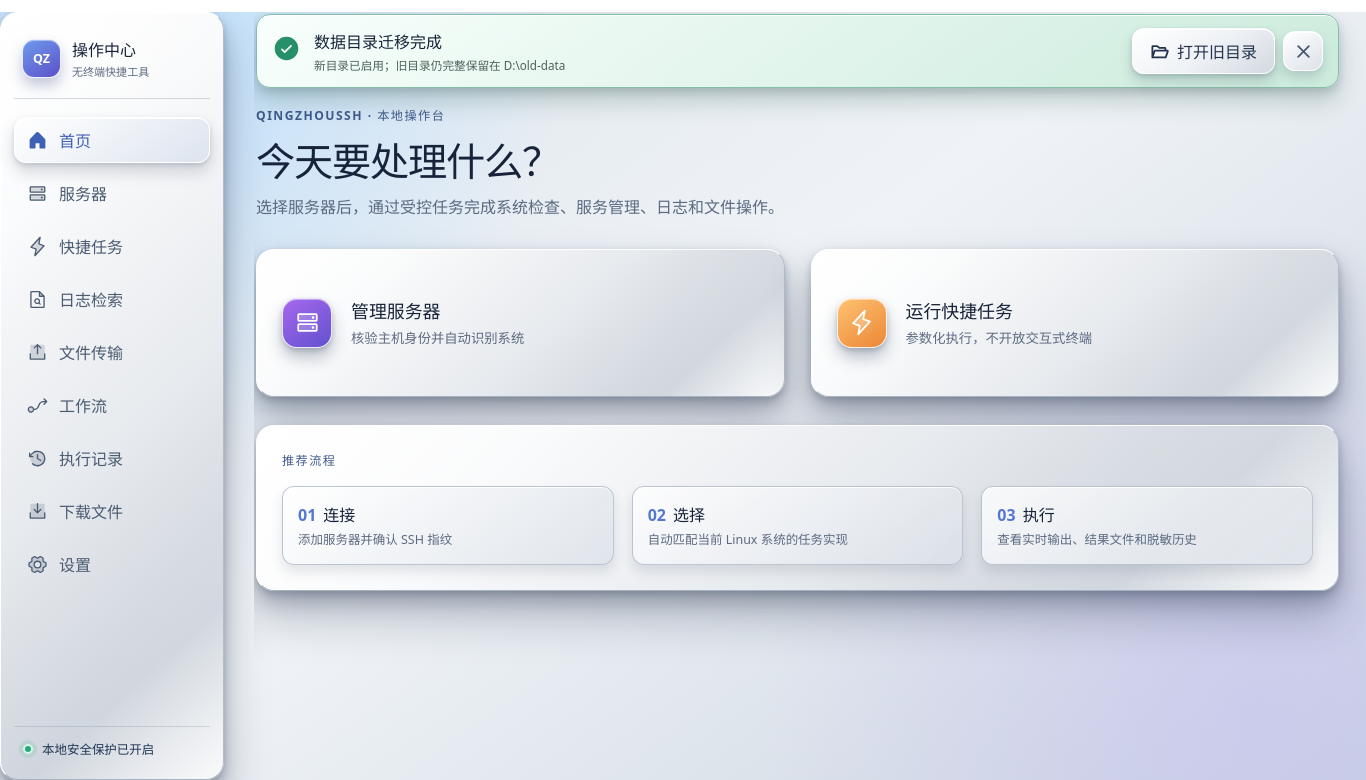
AppShell › explains a completed migration, keeps the old directory available and acknowledges it
Expected: the text "数据目录迁移完成" is shown, [314, 31, 442, 53]
Expected: the text "新目录已启用；旧目录仍完整保留在 D:\\old-data" is shown, [314, 58, 565, 73]
Click the button "打开旧目录": {"x": 1204, "y": 51} [1132, 28, 1275, 74]
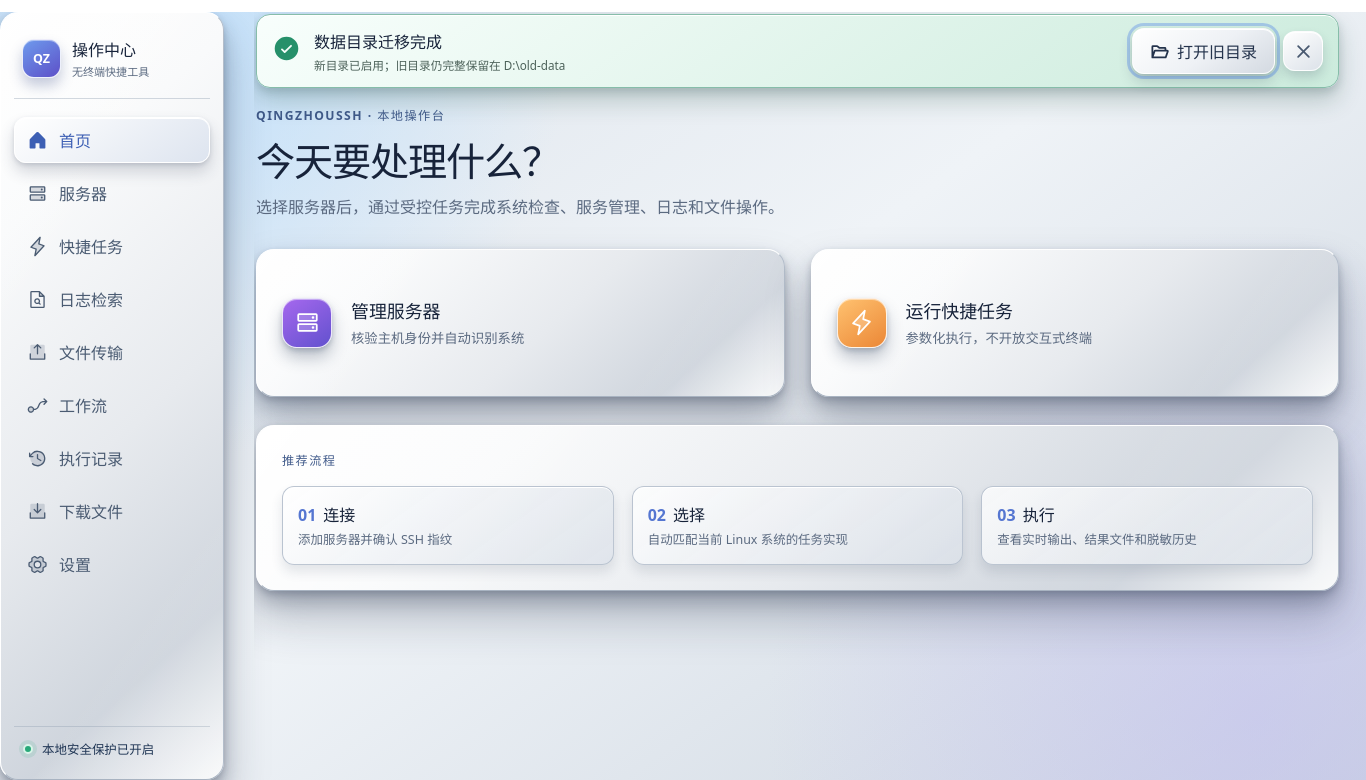
Click the button named "关闭迁移结果": {"x": 1303, "y": 51} [1283, 31, 1323, 71]
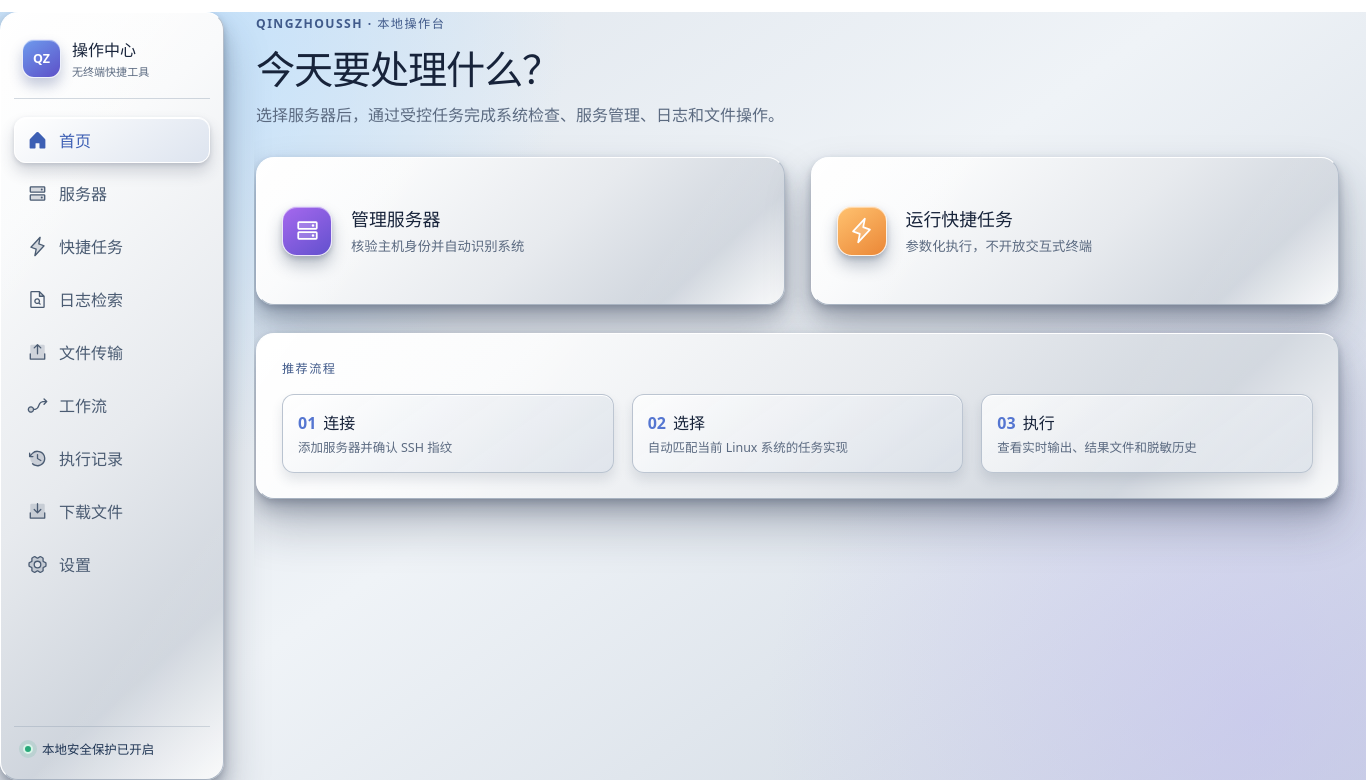
Result: the text "数据目录迁移完成" is gone
